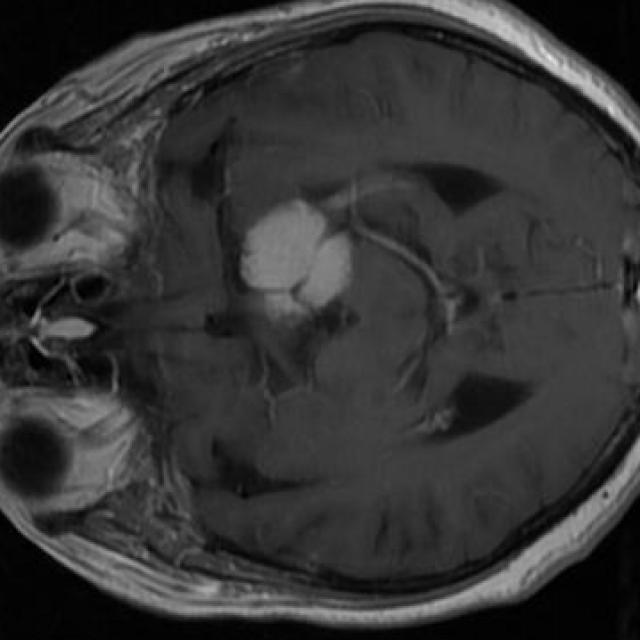meningioma: (239, 200, 349, 328)
